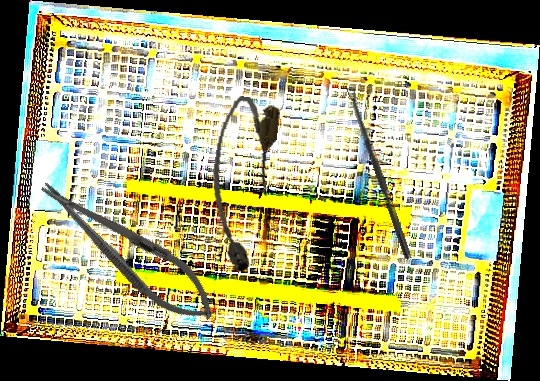Cannula: (200, 93, 282, 275)
Needle Holder: (28, 164, 228, 336)
Surgical Spoon: (346, 86, 413, 260)
